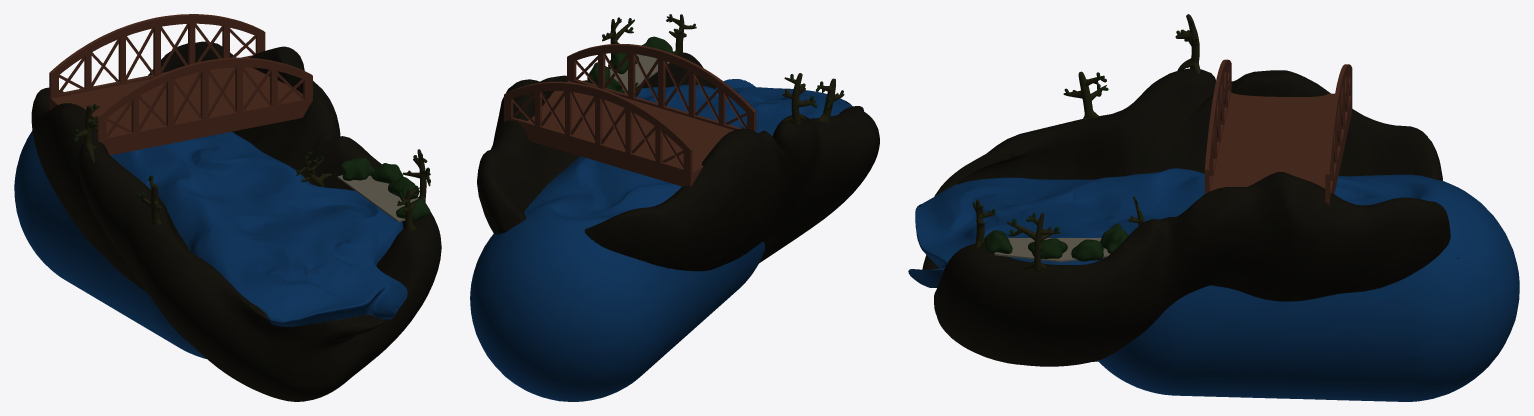
File: ppf_stage.gltf
The picture shows the model from 3 angles, left to right: view 1: azimuth 30°, elevation 25°; view 2: azimuth 150°, elevation 25°; view 3: azimuth 270°, elevation 25°; orthographic projection. The views are drawn at different scales.
Parts seen in each view (by area): view 1: Earth, Bridge, Bushes, Platfrom, Tree3, Tree2, Tree1, Tree4, Tree5; view 2: Earth, Bridge, Bushes, Tree3, Platfrom, Tree1, Tree5, Tree2; view 3: Earth, Bridge, Bushes, Platfrom, Tree2, Tree1, Tree3.
Boxes of the visible parts, x1=… form: Earth: x1=14, y1=41, x2=441, y2=401; Bridge: x1=49, y1=14, x2=312, y2=155; Bushes: x1=341, y1=158, x2=430, y2=221; Platfrom: x1=337, y1=175, x2=418, y2=222; Tree3: x1=73, y1=103, x2=99, y2=163; Tree2: x1=403, y1=149, x2=430, y2=202; Tree1: x1=135, y1=175, x2=161, y2=224; Tree4: x1=296, y1=151, x2=331, y2=186; Tree5: x1=397, y1=185, x2=419, y2=231; Earth: x1=470, y1=51, x2=879, y2=401; Bridge: x1=504, y1=43, x2=756, y2=186; Bushes: x1=587, y1=36, x2=673, y2=92; Tree3: x1=782, y1=73, x2=817, y2=126; Platfrom: x1=608, y1=54, x2=669, y2=93; Tree1: x1=815, y1=78, x2=844, y2=122; Tree5: x1=666, y1=14, x2=696, y2=56; Tree2: x1=602, y1=17, x2=634, y2=58; Earth: x1=908, y1=68, x2=1519, y2=401; Bridge: x1=1204, y1=59, x2=1352, y2=205; Bushes: x1=984, y1=223, x2=1128, y2=261; Platfrom: x1=994, y1=238, x2=1110, y2=261; Tree2: x1=1007, y1=212, x2=1060, y2=271; Tree1: x1=1063, y1=71, x2=1108, y2=120; Tree3: x1=1175, y1=14, x2=1200, y2=73.
Size of the model in its own units: 41.79 by 39.56 by 70.87.
